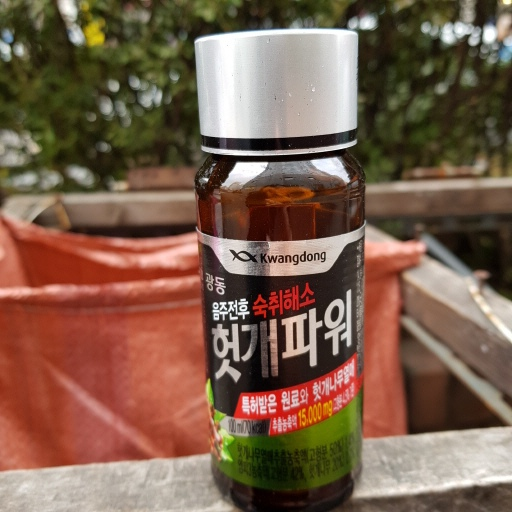Glass_3: (193, 26, 372, 511)
